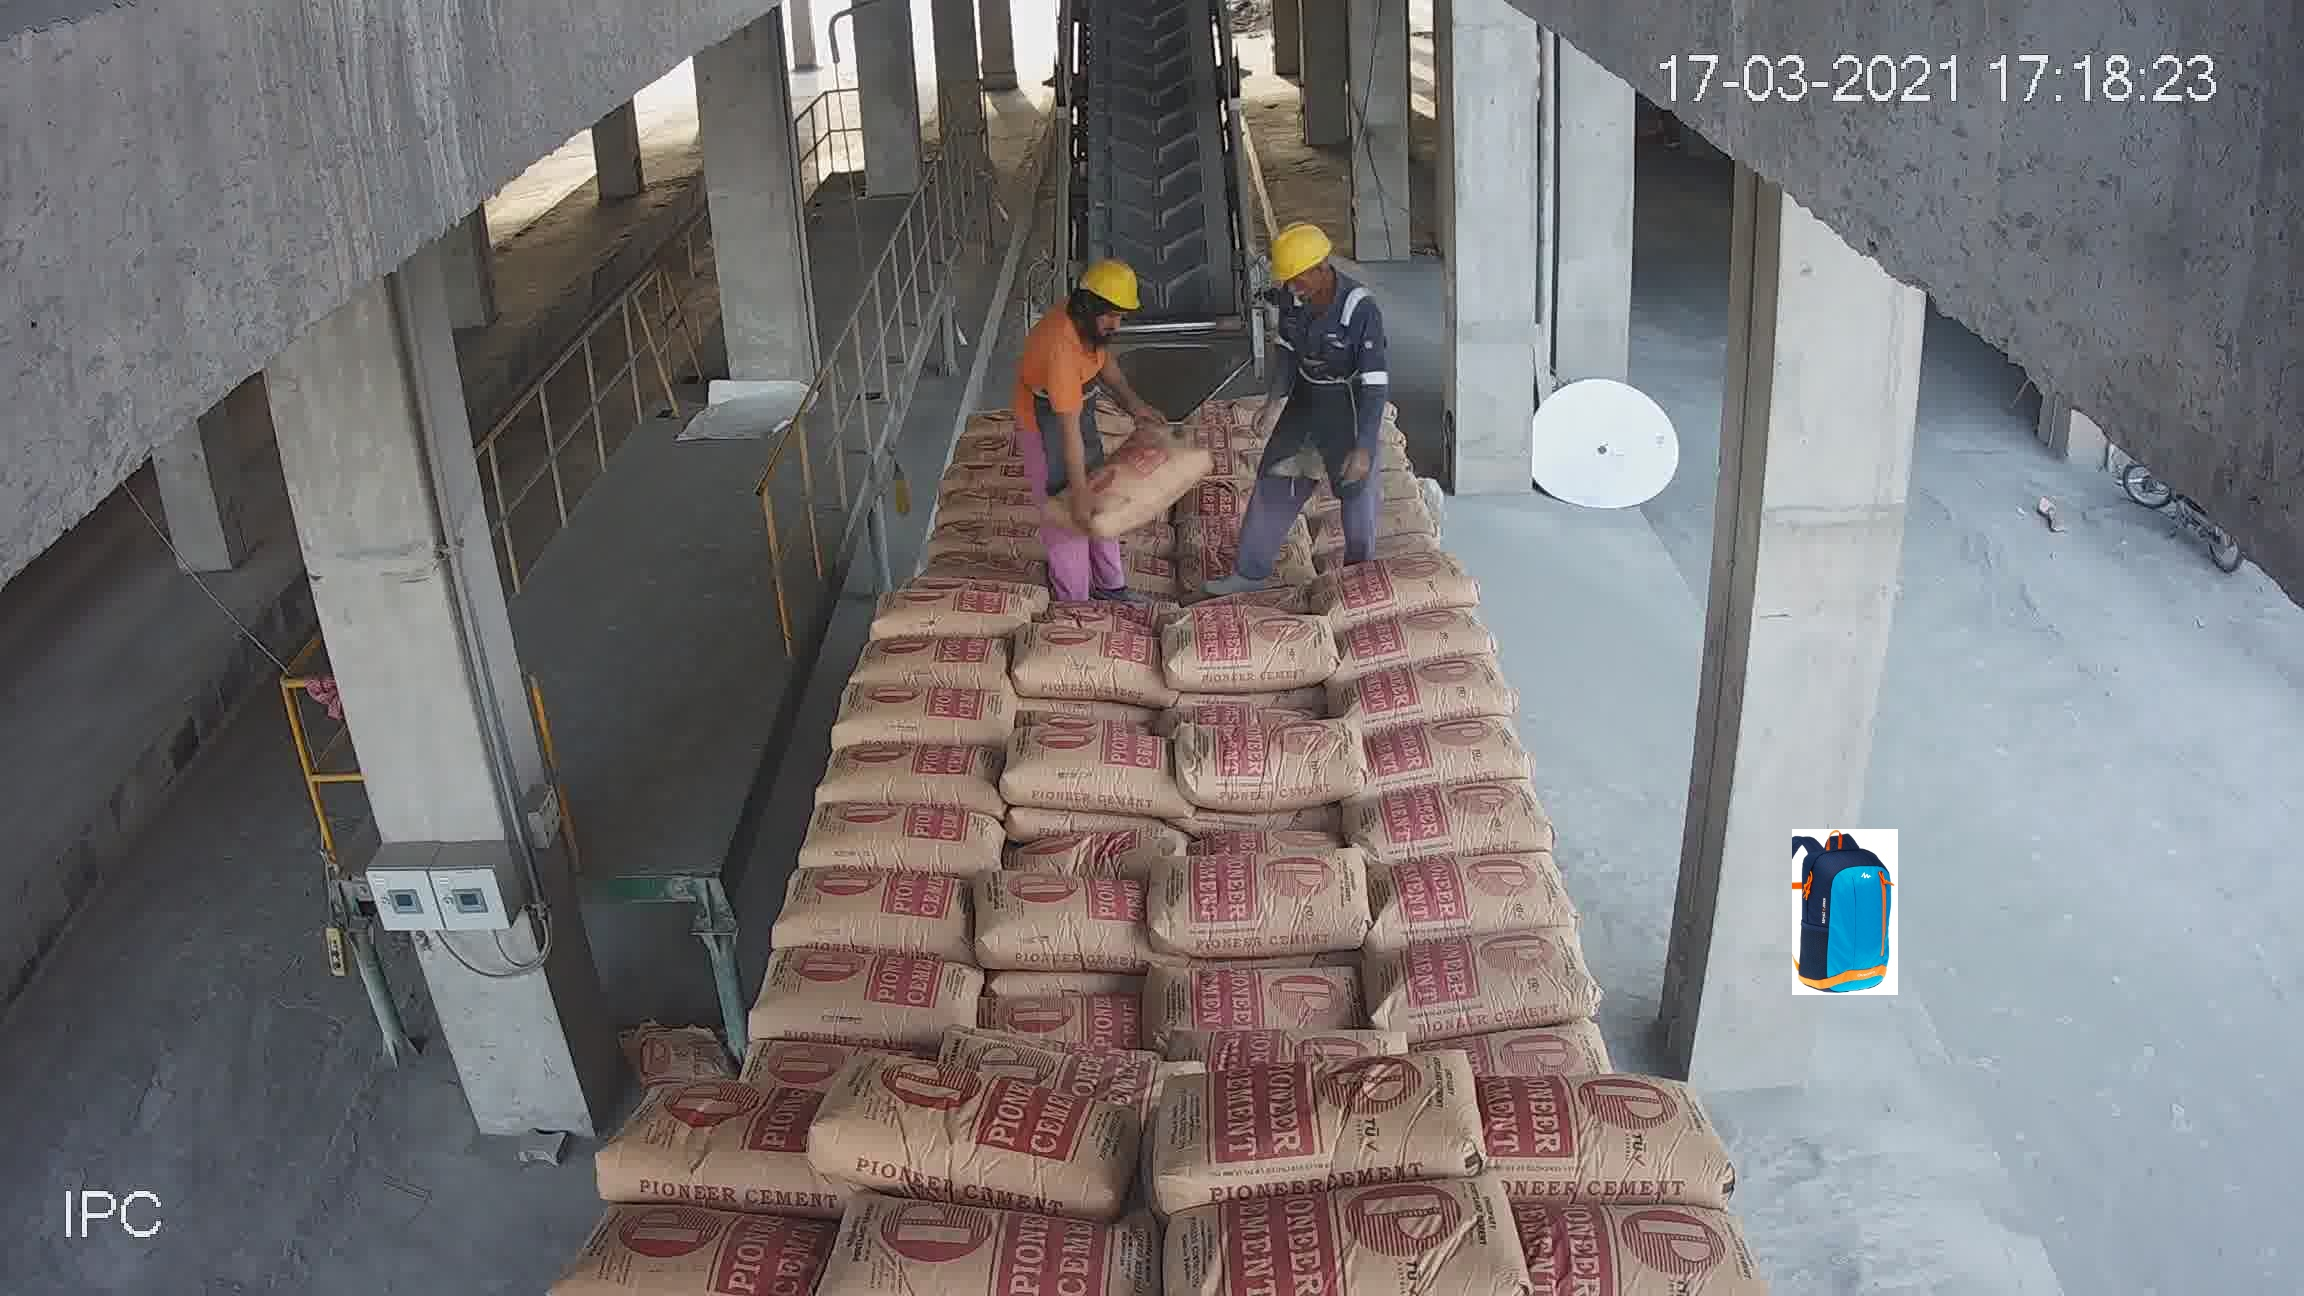bag_h: (1152, 1033, 1484, 1184), (809, 1073, 1149, 1207), (1487, 1067, 1734, 1201), (584, 1074, 817, 1201), (726, 946, 1002, 1048), (1161, 847, 1381, 964), (1361, 930, 1612, 1029), (1362, 840, 1576, 951), (948, 851, 1139, 964), (1040, 424, 1204, 551), (791, 794, 1002, 880), (1005, 714, 1177, 809), (775, 864, 953, 956), (1152, 964, 1362, 1040), (1358, 779, 1554, 859), (1188, 1029, 1408, 1098), (802, 739, 1013, 809), (1358, 707, 1522, 796), (818, 674, 1013, 748), (1331, 608, 1502, 688), (1461, 1014, 1608, 1106), (1334, 657, 1521, 728), (946, 1036, 1179, 1092), (991, 817, 1184, 880), (850, 628, 1025, 695), (1030, 616, 1152, 707), (961, 991, 1157, 1044), (1334, 551, 1473, 622), (881, 571, 1046, 623), (911, 508, 1038, 563), (923, 478, 1038, 529)
belt: (1060, 25, 1253, 385)
